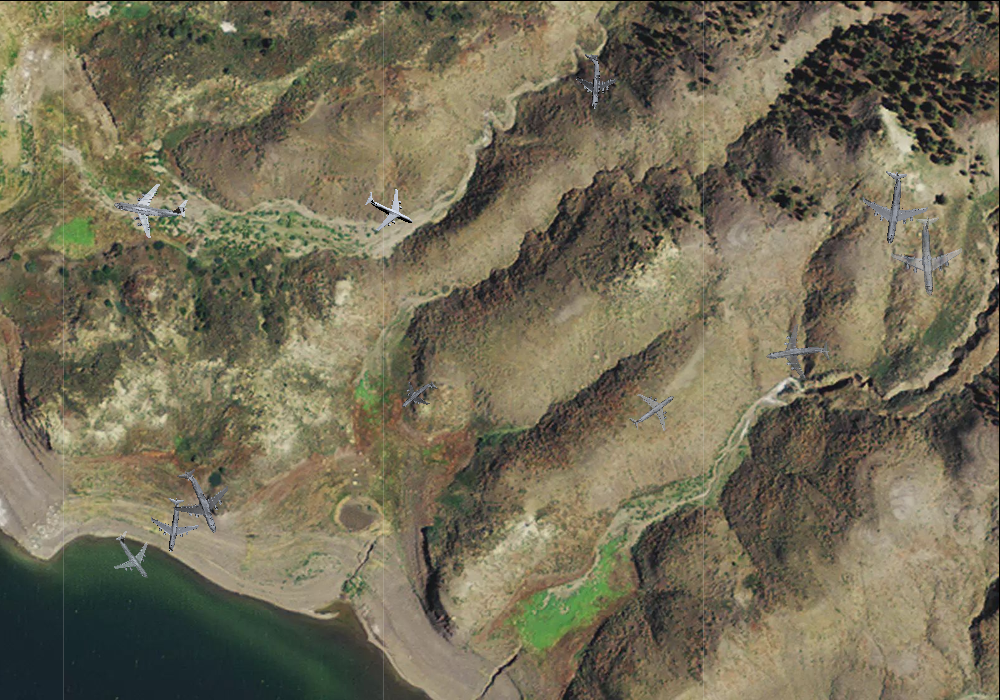plane: (157, 458, 242, 545), (887, 213, 969, 298), (853, 165, 934, 249), (108, 168, 192, 246), (762, 318, 834, 388), (98, 521, 167, 591), (619, 376, 687, 444), (355, 176, 423, 243), (143, 494, 203, 556), (567, 51, 620, 110), (391, 368, 445, 422)
